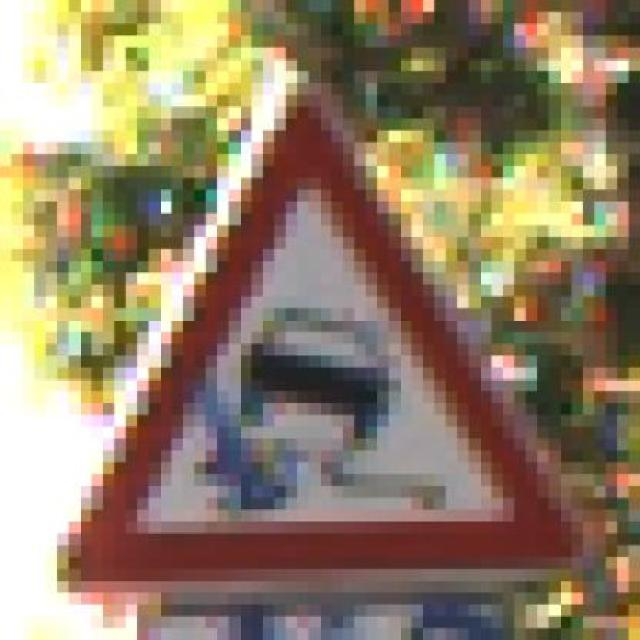Slippery Road Ahead: (46, 83, 583, 605)
